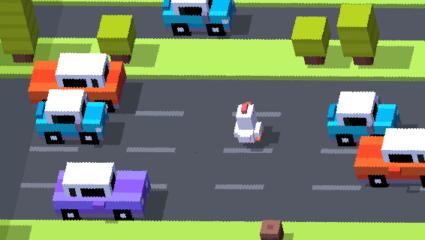hen: (234, 103, 264, 144)
obstacle: (31, 52, 125, 110), (54, 161, 149, 218), (357, 129, 425, 187), (329, 92, 401, 145), (35, 89, 82, 144), (336, 4, 377, 65), (0, 0, 38, 61), (96, 16, 134, 65), (290, 16, 328, 64), (163, 0, 207, 36), (84, 92, 109, 146), (211, 0, 237, 35), (261, 220, 285, 240)
